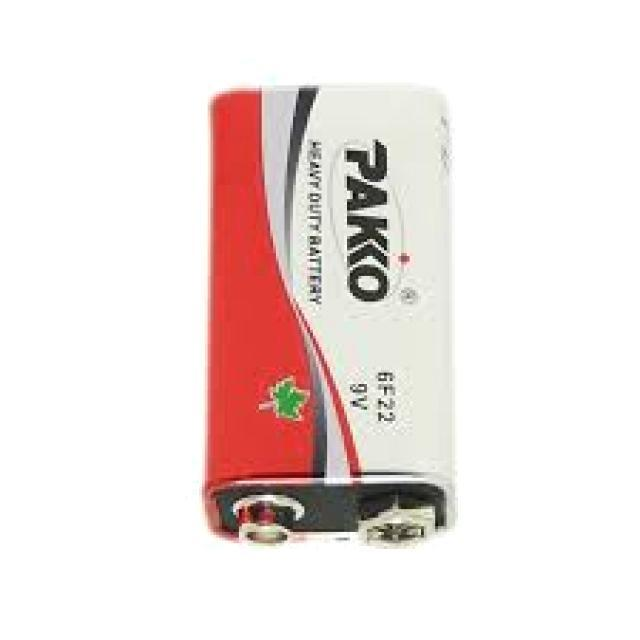battery: (200, 84, 456, 551)
